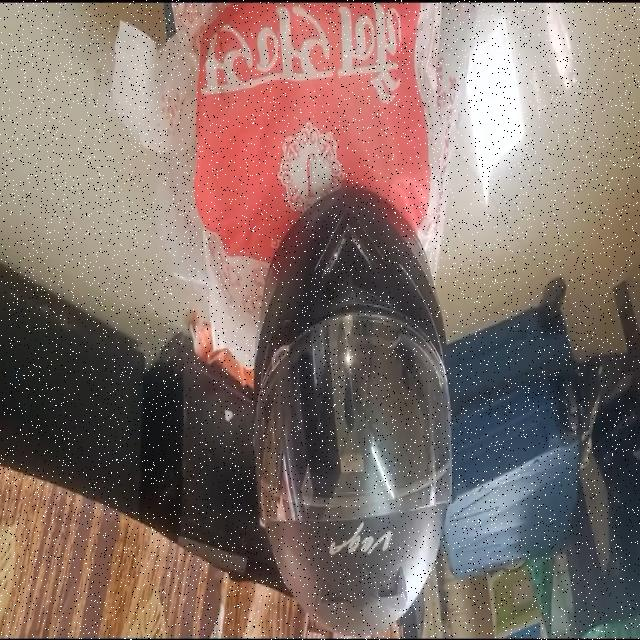Helmet: (253, 180, 452, 633)
